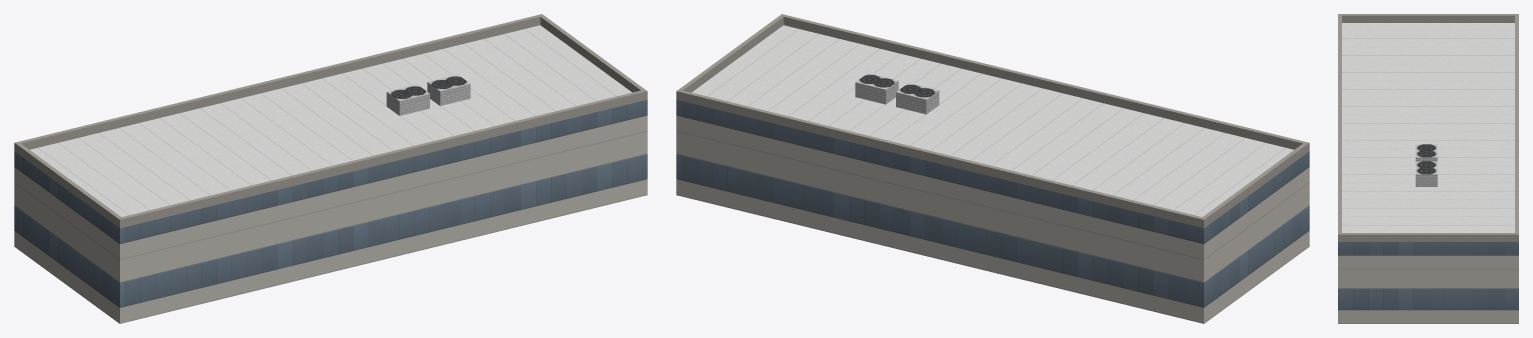
Rendered from khua_ops_52x18.glb.
The picture shows the model from 3 angles, left to right: view 1: azimuth 30°, elevation 25°; view 2: azimuth 150°, elevation 25°; view 3: azimuth 270°, elevation 25°; orthographic projection. The views are drawn at different scales.
Visible parts, largest first — view 1: khua_ops_52x18_office_wall, khua_ops_52x18_roof, khua_ops_52x18_coping, khua_ops_52x18_ac_side, khua_ops_52x18_ac_top; view 2: khua_ops_52x18_office_wall, khua_ops_52x18_roof, khua_ops_52x18_coping, khua_ops_52x18_ac_side, khua_ops_52x18_ac_top; view 3: khua_ops_52x18_roof, khua_ops_52x18_office_wall, khua_ops_52x18_coping, khua_ops_52x18_ac_top, khua_ops_52x18_ac_side.
Boxes of the visible parts, left/top/right/bottom form: khua_ops_52x18_office_wall: left=14, top=99, right=647, bottom=323; khua_ops_52x18_roof: left=30, top=25, right=631, bottom=216; khua_ops_52x18_coping: left=14, top=14, right=647, bottom=228; khua_ops_52x18_ac_side: left=386, top=82, right=470, bottom=115; khua_ops_52x18_ac_top: left=387, top=74, right=470, bottom=100; khua_ops_52x18_office_wall: left=676, top=99, right=1309, bottom=323; khua_ops_52x18_roof: left=692, top=25, right=1293, bottom=216; khua_ops_52x18_coping: left=676, top=14, right=1309, bottom=228; khua_ops_52x18_ac_side: left=855, top=80, right=939, bottom=114; khua_ops_52x18_ac_top: left=856, top=73, right=938, bottom=99; khua_ops_52x18_roof: left=1342, top=23, right=1514, bottom=232; khua_ops_52x18_office_wall: left=1338, top=242, right=1518, bottom=323; khua_ops_52x18_coping: left=1338, top=14, right=1518, bottom=241; khua_ops_52x18_ac_top: left=1415, top=144, right=1437, bottom=174; khua_ops_52x18_ac_side: left=1415, top=157, right=1437, bottom=186.
Bounding box in the file's own units: 52 × 10.4 × 18.
Materials: 5 (5 with a texture image).
